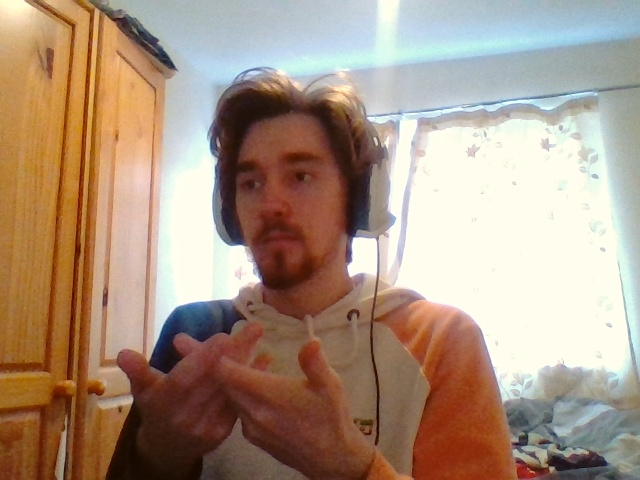how: (117, 323, 347, 460)
